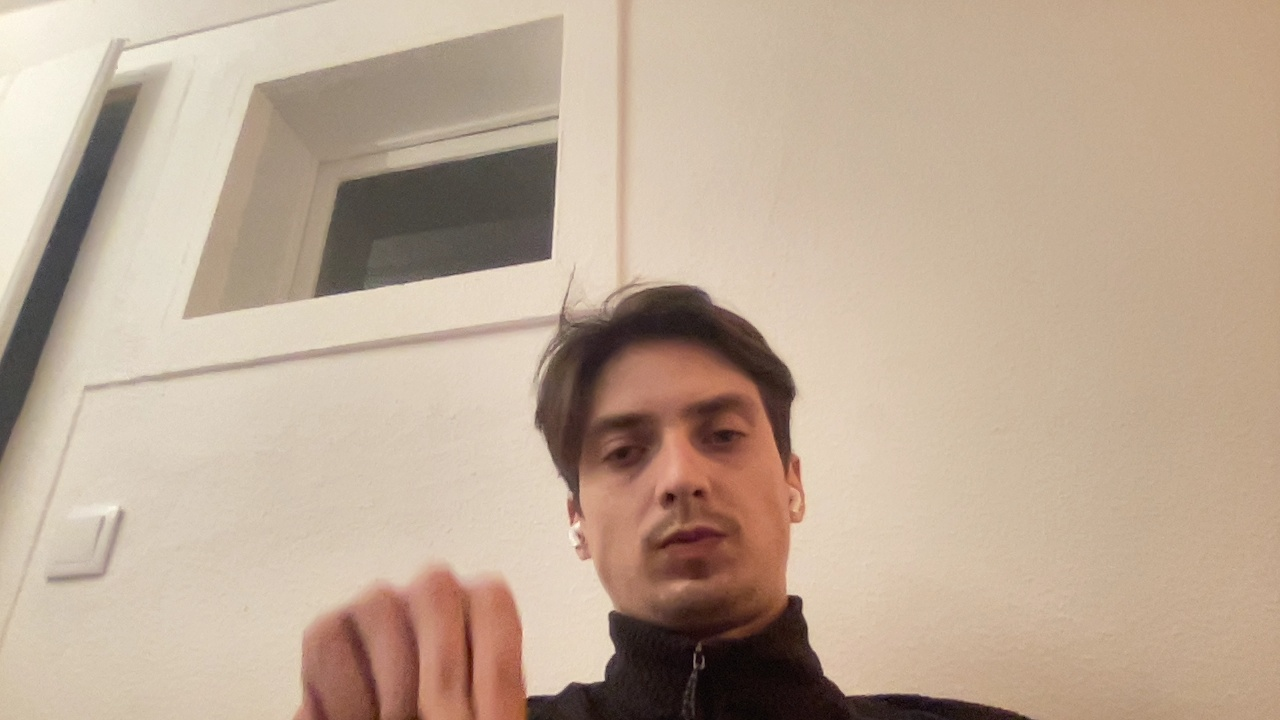Yes: (256, 565, 586, 719)
